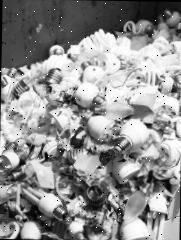lightbulb: (0, 8, 181, 240), (113, 117, 150, 154), (20, 220, 42, 238)
